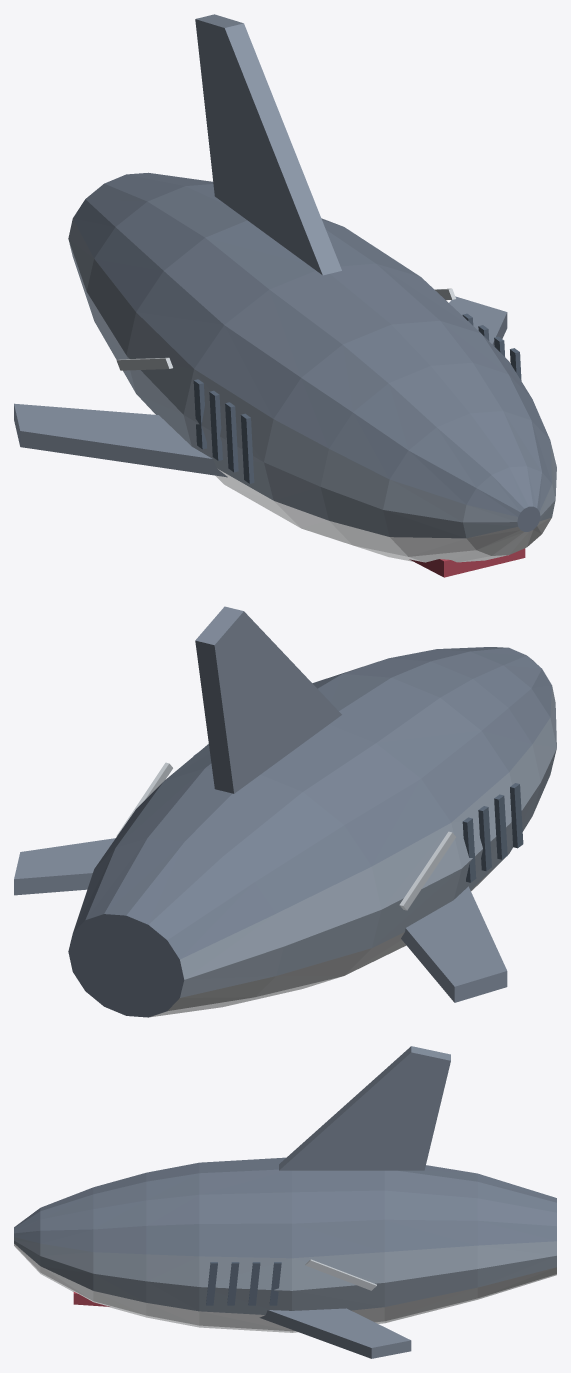
The model's file is SharkBoss.fbx.
3 views of the same model, one above another, from view 1: azimuth 30°, elevation 25°; view 2: azimuth 150°, elevation 25°; view 3: azimuth 270°, elevation 25° (orthographic). The views are drawn at different scales.
Parts seen in each view (by area): view 1: SharkBoss; view 2: SharkBoss; view 3: SharkBoss.
Part boxes in pixels (left/top/right/bottom): SharkBoss: left=14, top=14, right=556, bottom=577; SharkBoss: left=14, top=606, right=556, bottom=1017; SharkBoss: left=14, top=1046, right=556, bottom=1358.
Size of the model in its own units: 126 by 99.7 by 180.
